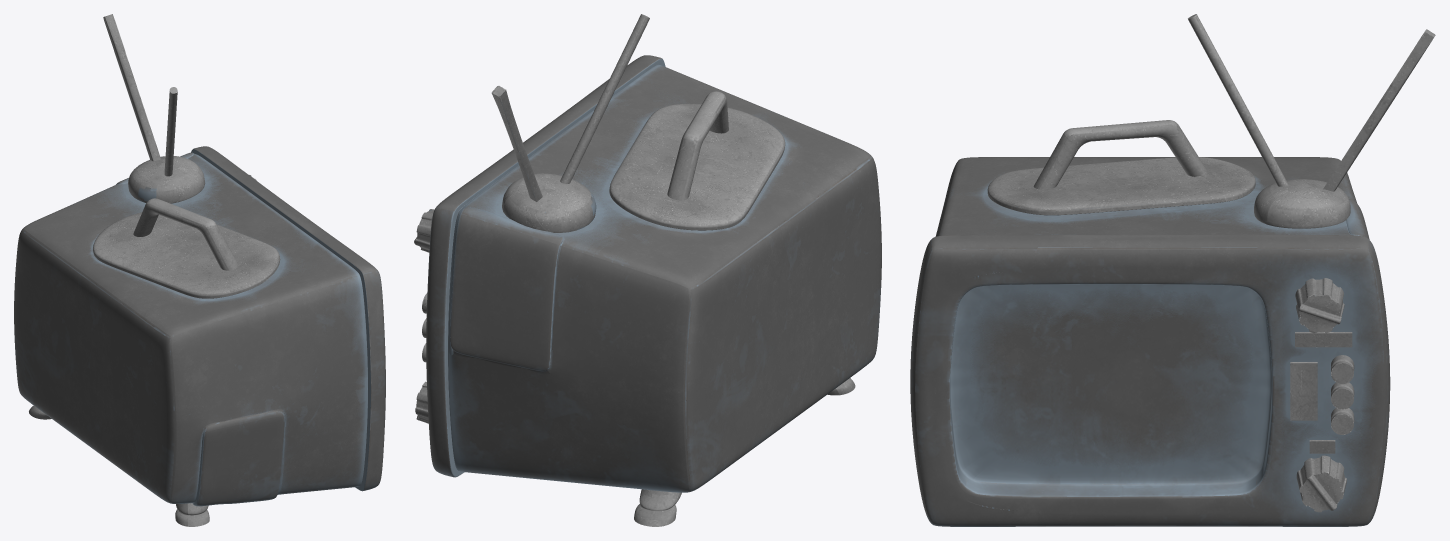
The model's file is telek.fbx.
3 renders of one model, left to right at view 1: azimuth 30°, elevation 25°; view 2: azimuth 150°, elevation 25°; view 3: azimuth 270°, elevation 25°, orthographic. The views are drawn at different scales.
Parts seen in each view (by area): view 1: Cube; view 2: Cube; view 3: Cube.
Boxes of the visible parts, <box> form: Cube: <box>14,14,385,526</box>; Cube: <box>414,14,881,526</box>; Cube: <box>910,14,1435,526</box>.
Bounding box in the file's own units: 291 × 425 × 448.
